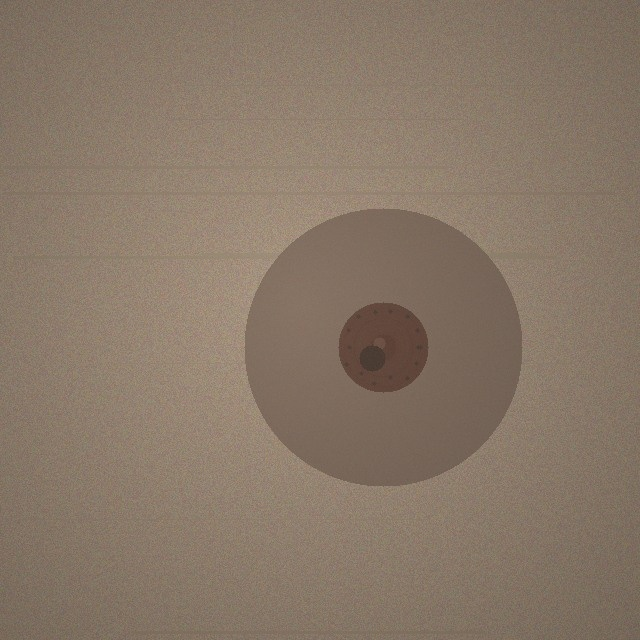cold_weld: (244, 208, 522, 486)
